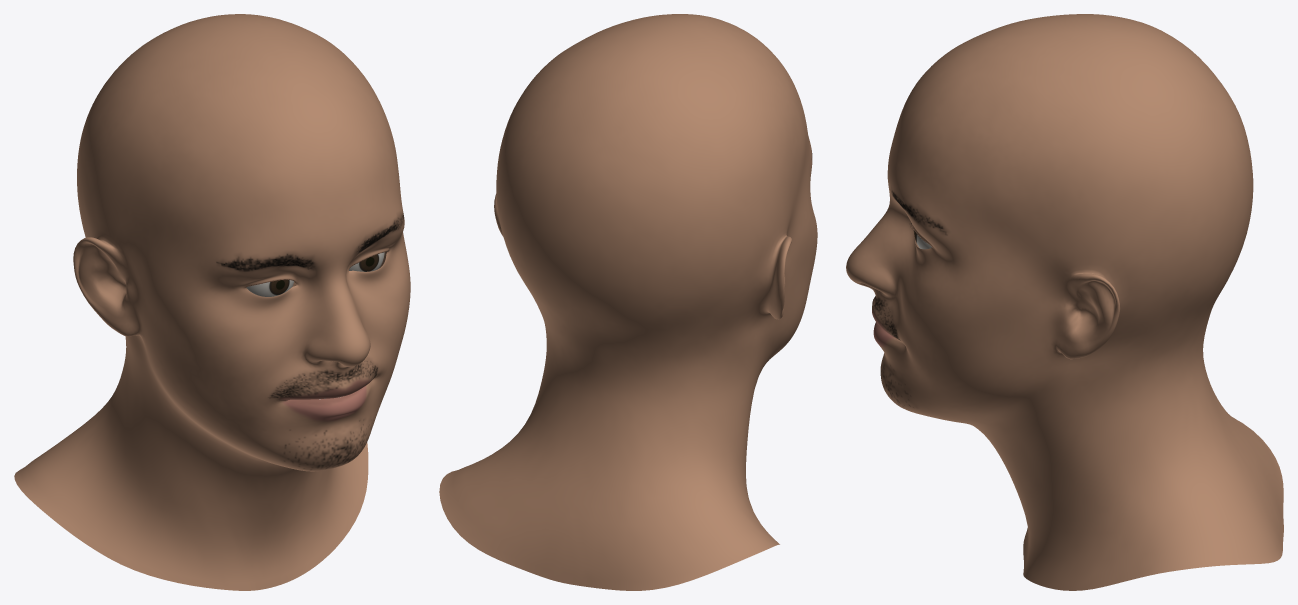
The model's file is head-groomed-tangents.glb.
3 views of the same model, side by side, from view 1: azimuth 30°, elevation 25°; view 2: azimuth 150°, elevation 25°; view 3: azimuth 270°, elevation 25° (orthographic). The views are drawn at different scales.
Parts seen in each view (by area): view 1: Ubaid_FaceBuilder_Head_Study, Eye.R; view 2: Ubaid_FaceBuilder_Head_Study; view 3: Ubaid_FaceBuilder_Head_Study.
Boxes of the visible parts, x1=… form: Ubaid_FaceBuilder_Head_Study: x1=14, y1=14, x2=410, y2=590; Eye.R: x1=246, y1=280, x2=293, y2=296; Ubaid_FaceBuilder_Head_Study: x1=439, y1=14, x2=817, y2=590; Ubaid_FaceBuilder_Head_Study: x1=846, y1=14, x2=1283, y2=590.
Bounding box in the file's own units: 0.1915 × 0.2968 × 0.2195.
Materials: 8 (1 with a texture image).
